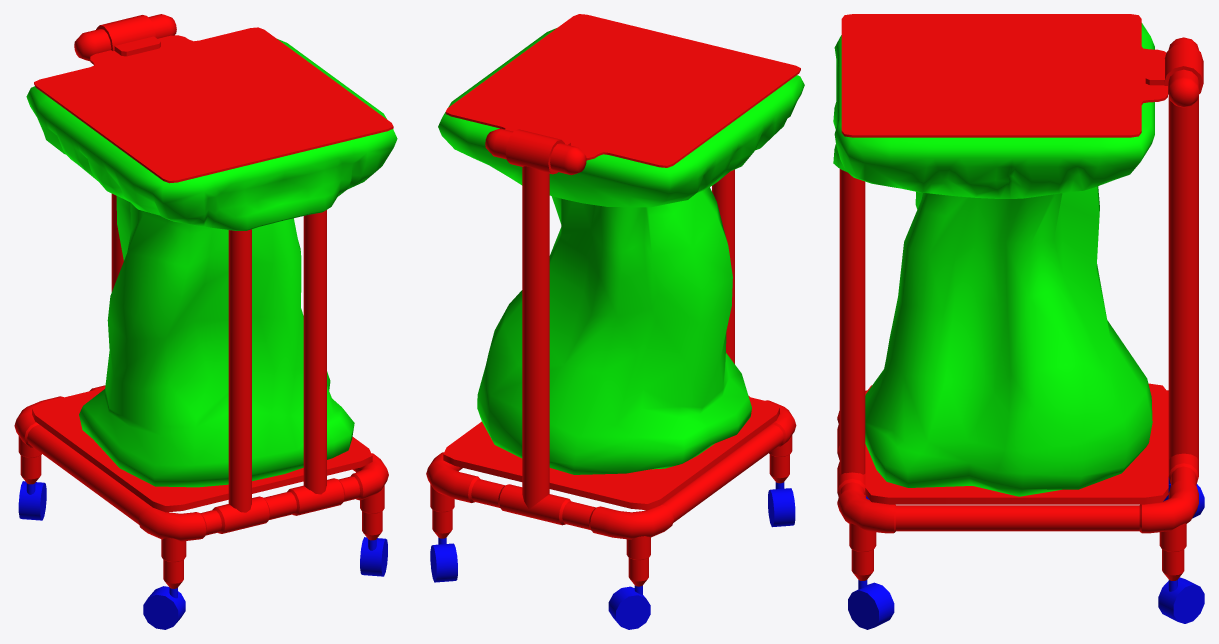
Rendered from Hamper.FBX.
3 views of the same model, side by side, from view 1: azimuth 30°, elevation 25°; view 2: azimuth 150°, elevation 25°; view 3: azimuth 270°, elevation 25° (orthographic). The views are drawn at different scales.
Visible parts, largest first — view 1: Hamper, Hamper Bag; view 2: Hamper, Hamper Bag; view 3: Hamper, Hamper Bag.
Boxes of the visible parts, left/top/right/bottom form: Hamper: left=14, top=14, right=397, bottom=629; Hamper Bag: left=79, top=196, right=354, bottom=487; Hamper: left=426, top=14, right=804, bottom=629; Hamper Bag: left=477, top=187, right=751, bottom=474; Hamper: left=833, top=14, right=1204, bottom=629; Hamper Bag: left=865, top=186, right=1152, bottom=496.
Size of the model in its own units: 16.87 by 30.06 by 19.67.
